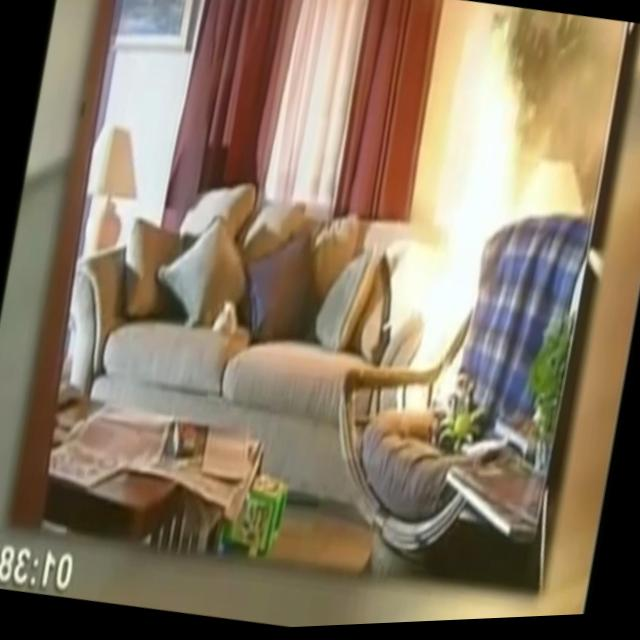fire: (393, 5, 558, 430)
